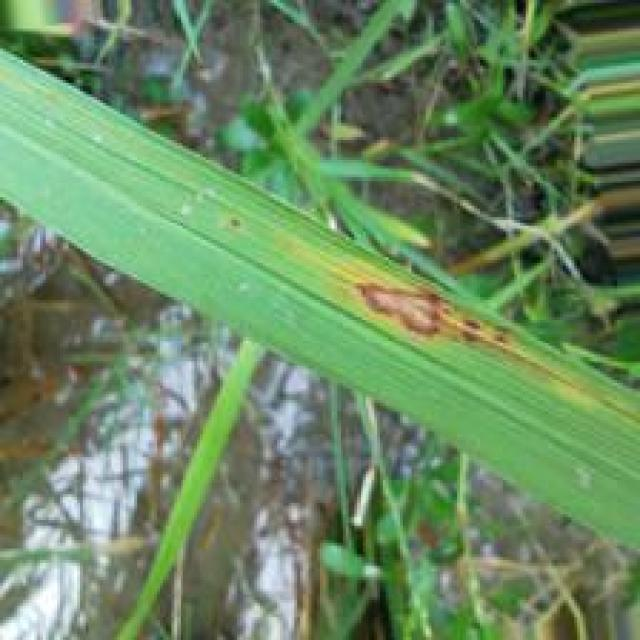Leaf_Blast: (323, 260, 553, 368)
